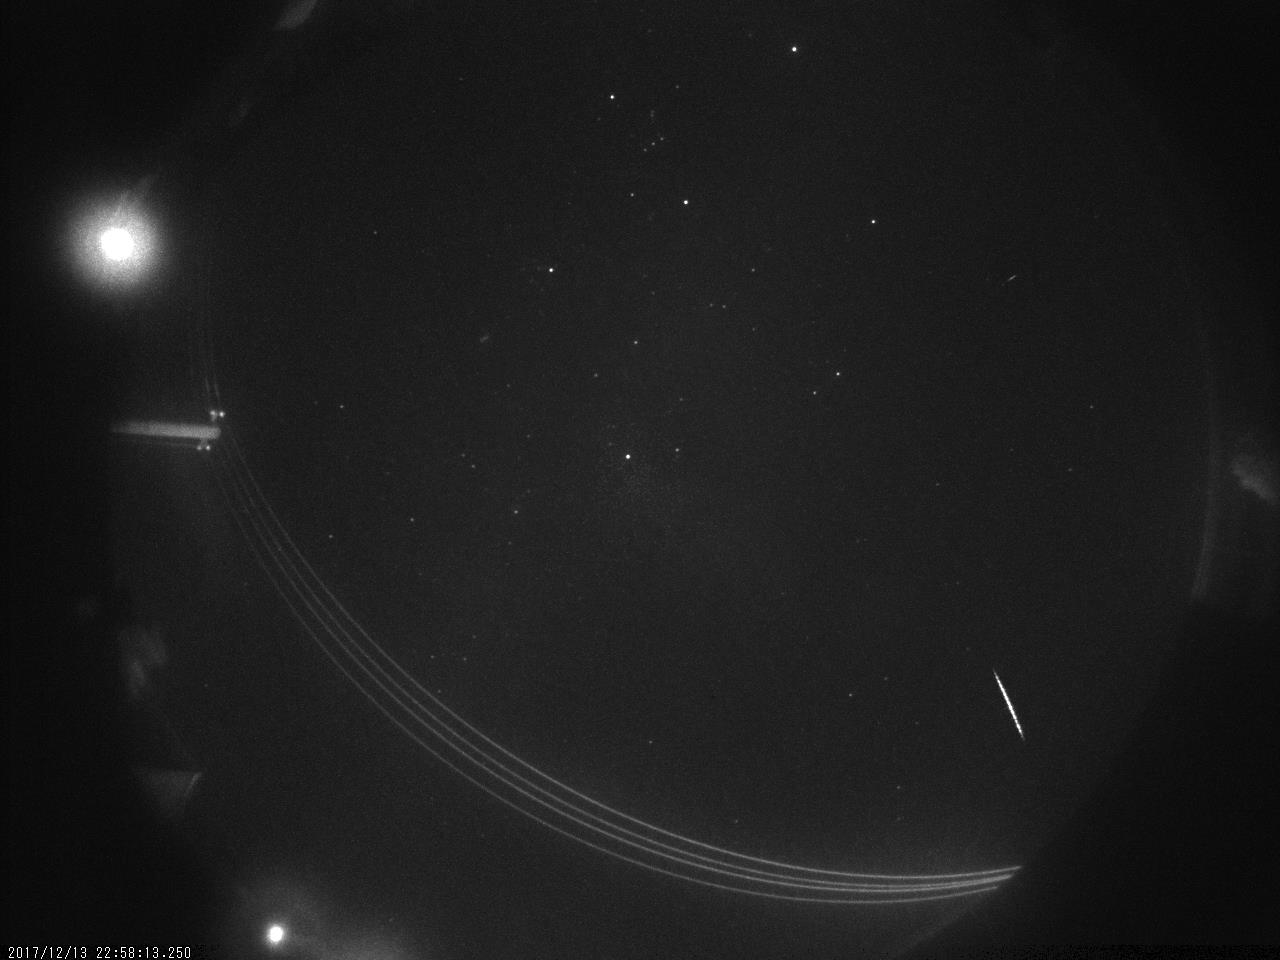meteor: (978, 652, 1042, 752)
